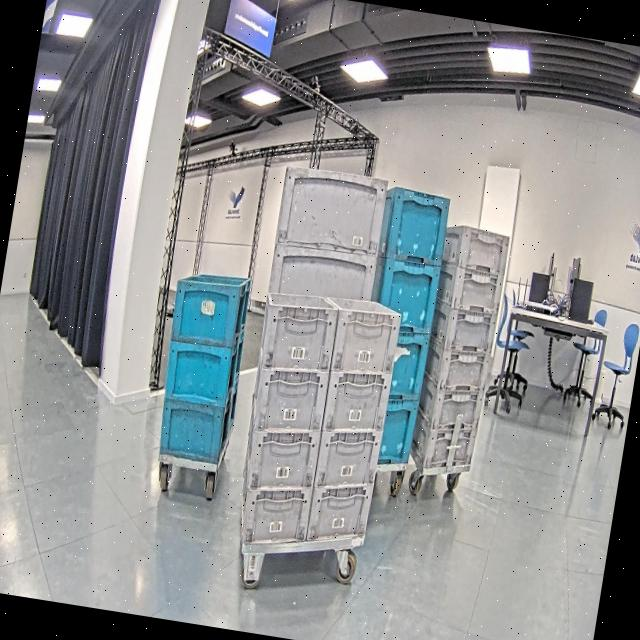Box3G: (406, 221, 512, 478)
Box4G: (241, 162, 391, 464)
Box8G: (226, 282, 404, 566)
BoxB4: (342, 184, 453, 473)
BoxB8: (149, 264, 259, 468)
